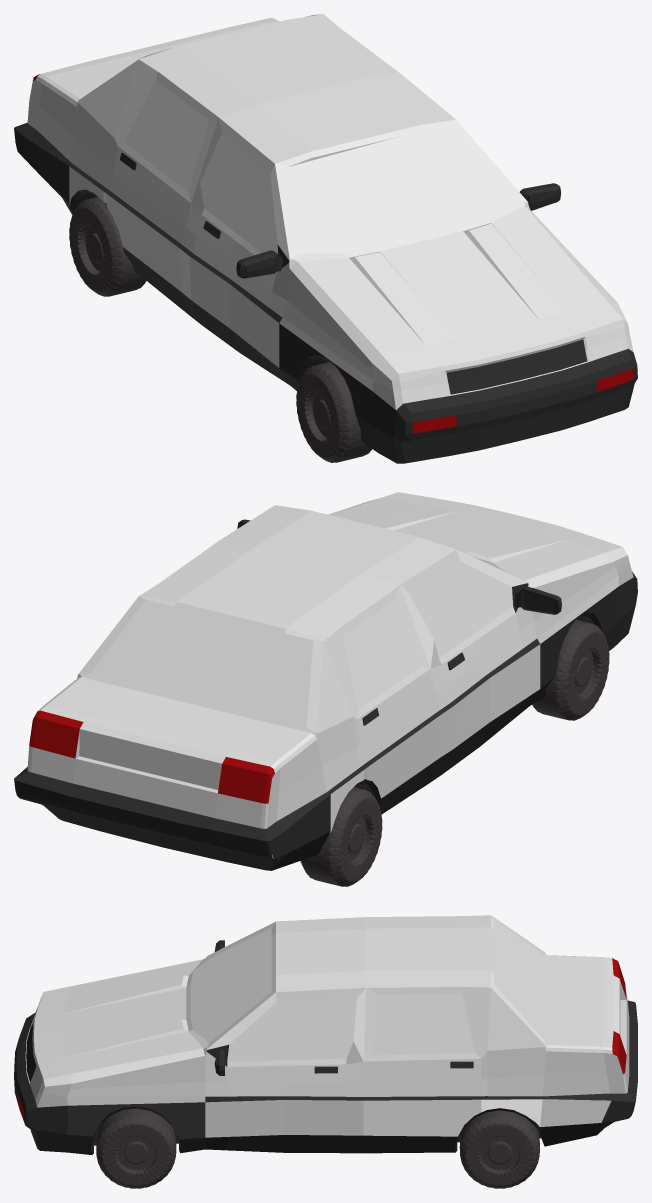
The model's file is lvl 3 car  2.fbx.
3 renders of one model, top to bottom at view 1: azimuth 30°, elevation 25°; view 2: azimuth 150°, elevation 25°; view 3: azimuth 270°, elevation 25°, orthographic. The views are drawn at different scales.
Visible parts, largest first — view 1: Plane, windows, Cylinder; view 2: Plane, windows, Cylinder; view 3: Plane, windows, Cylinder.
Boxes of the visible parts, x1=… form: Plane: x1=14, y1=14, x2=637, y2=463; windows: x1=124, y1=81, x2=514, y2=253; Cylinder: x1=69, y1=196, x2=372, y2=462; Plane: x1=14, y1=492, x2=637, y2=870; windows: x1=90, y1=557, x2=513, y2=726; Cylinder: x1=300, y1=619, x2=609, y2=886; Plane: x1=14, y1=915, x2=637, y2=1154; windows: x1=190, y1=919, x2=543, y2=1061; Cylinder: x1=96, y1=1108, x2=539, y2=1188.
Bounding box in the file's own units: 542 × 375 × 1138.
